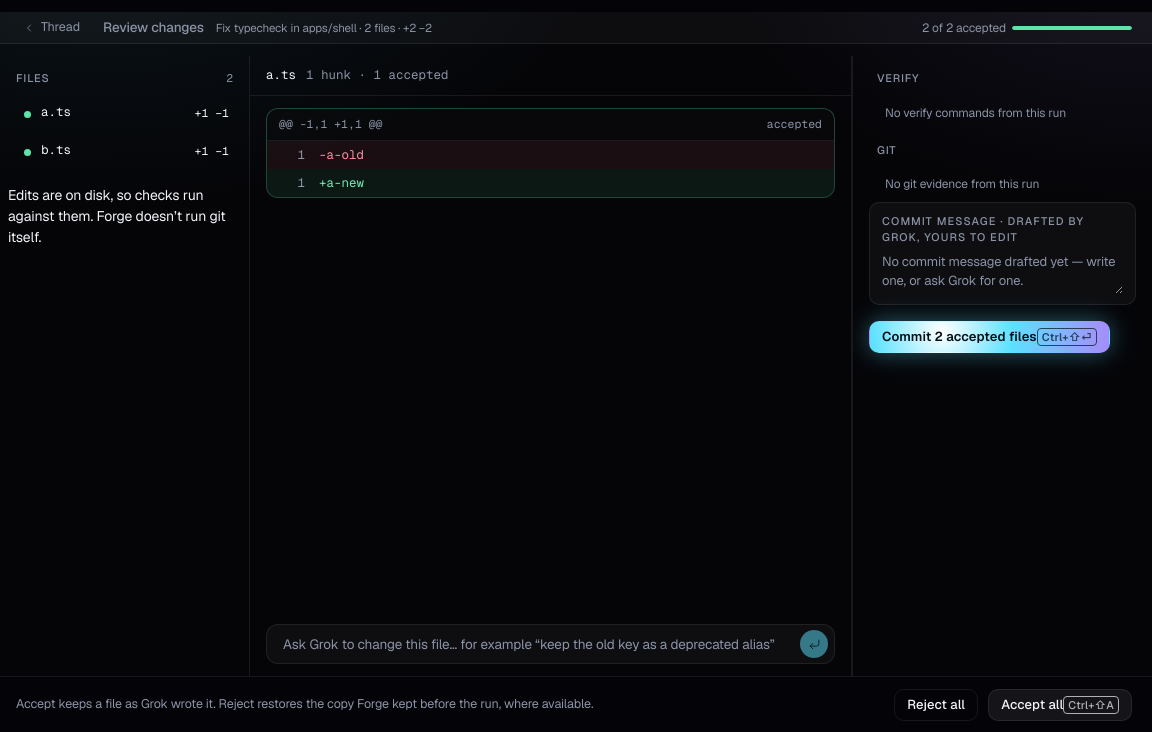
it: ReviewSurface — file list and diff column › clicking a different file row switches the diff column to that file
This screenshot has width=1152, height=732.
Check: the text "a-new" is shown, box 319,174 -> 364,191
Click the text "b.ts": (56, 150) 41,141 -> 71,158
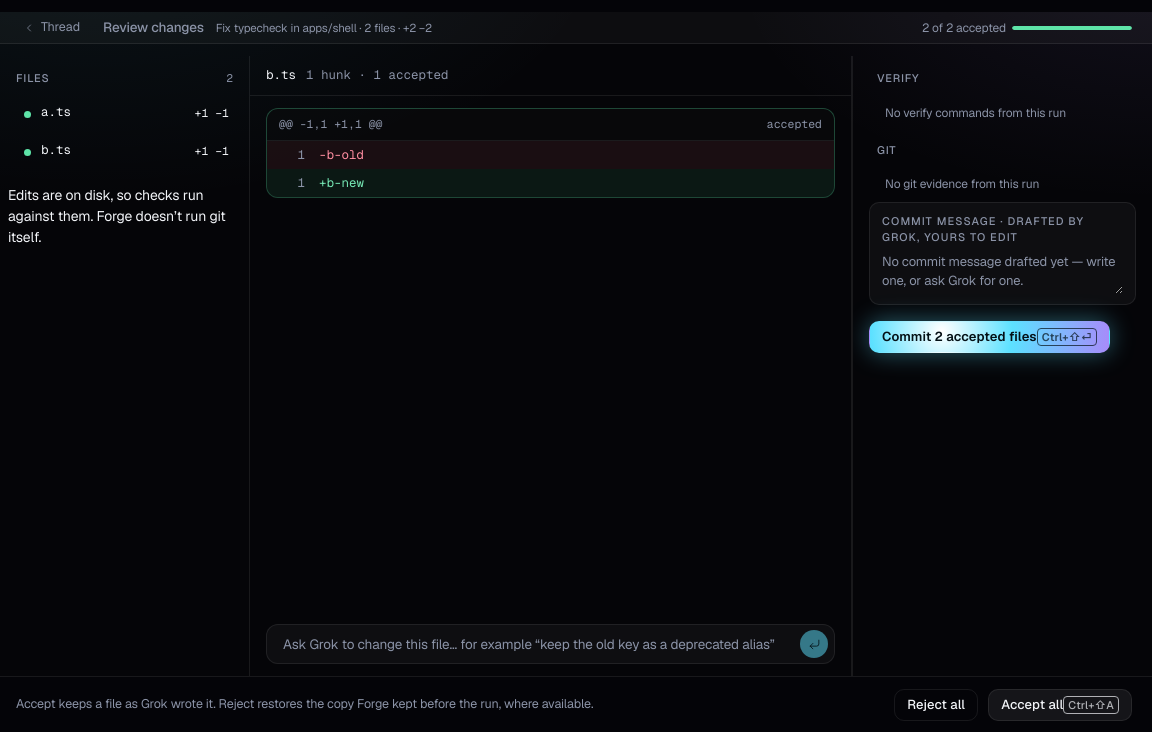
Check: the text "b-new" is shown, box 319,174 -> 364,191
